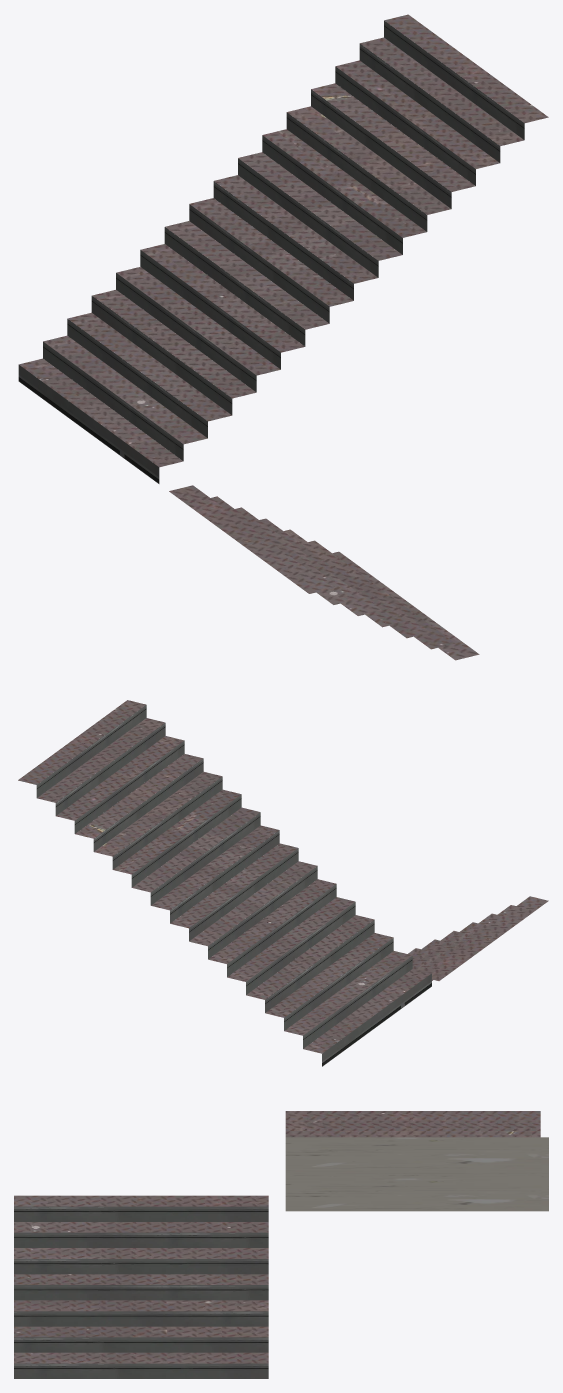
3 views of the same model, one above another, from view 1: azimuth 30°, elevation 25°; view 2: azimuth 150°, elevation 25°; view 3: azimuth 270°, elevation 25° (orthographic). The views are drawn at different scales.
Parts seen in each view (by area): view 1: body0_model0_lod0_mesh1, body0_model0_lod0_mesh0; view 2: body0_model0_lod0_mesh1, body0_model0_lod0_mesh0; view 3: body0_model0_lod0_mesh0, body0_model0_lod0_mesh1, body0_model0_lod0_mesh2.
Part boxes in pixels (x1=…): body0_model0_lod0_mesh1: x1=19, y1=14, x2=548, y2=660; body0_model0_lod0_mesh0: x1=18, y1=20, x2=524, y2=483; body0_model0_lod0_mesh1: x1=18, y1=700, x2=548, y2=1053; body0_model0_lod0_mesh0: x1=36, y1=705, x2=431, y2=1066; body0_model0_lod0_mesh0: x1=14, y1=1206, x2=268, y2=1378; body0_model0_lod0_mesh1: x1=14, y1=1111, x2=540, y2=1363; body0_model0_lod0_mesh2: x1=285, y1=1137, x2=548, y2=1211.
Bounding box in the file's own units: 192 × 184 × 252.
Materials: 3 (3 with a texture image).
